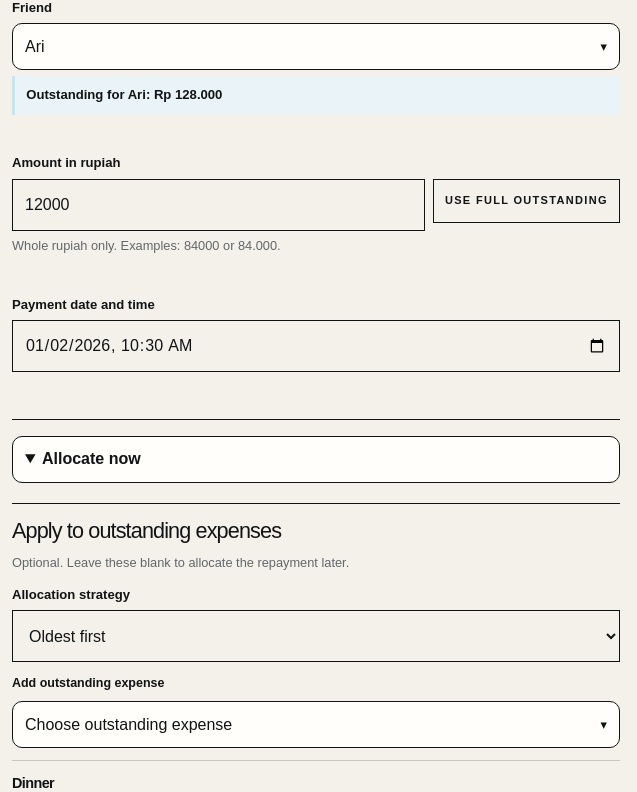
Scenario: RepaymentForm › recalculates all allocations immediately when using full outstanding with oldest first
The image size is (637, 792).
Click the button "Use full outstanding".
click(526, 200)  # box x1=433 y1=178 x2=620 y2=222
(page scrolled)
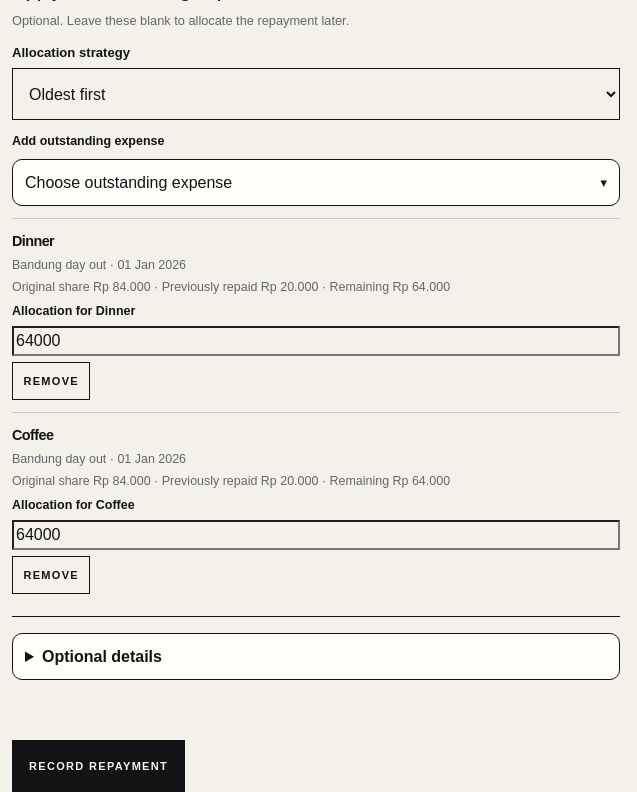
Check: the field labelled "Allocation for Dinner" holds "64000", box x1=12 y1=326 x2=620 y2=356
Check: the field labelled "Allocation for Coffee" holds "64000", box x1=12 y1=520 x2=620 y2=550
